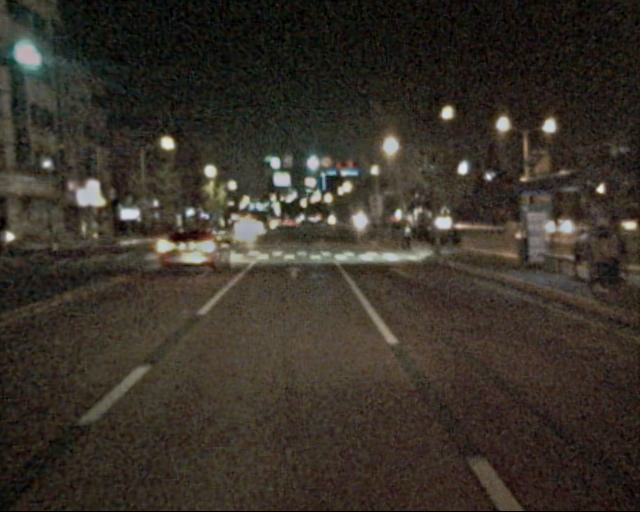person: (601, 217, 629, 292), (591, 222, 616, 293)
